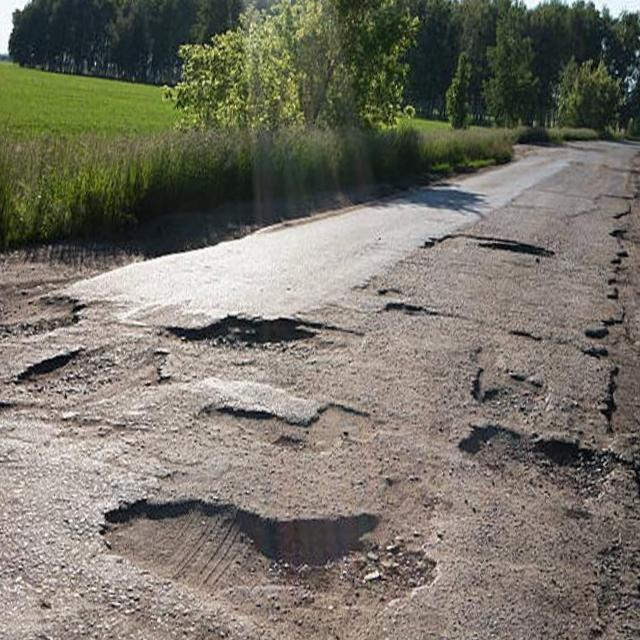Lubang: (98, 505, 448, 613), (169, 319, 357, 391), (464, 425, 617, 500)
Pinggir: (588, 184, 640, 601)
